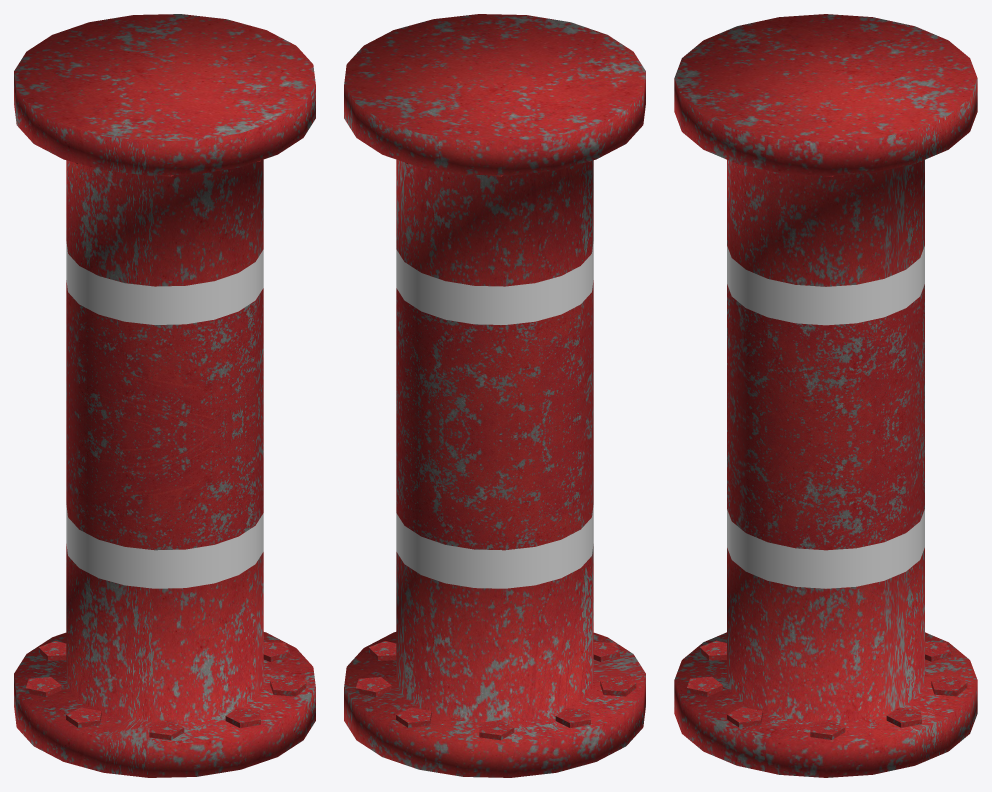
File: column.fbx
The picture shows the model from 3 angles, left to right: view 1: azimuth 30°, elevation 25°; view 2: azimuth 150°, elevation 25°; view 3: azimuth 270°, elevation 25°; orthographic projection.
Parts seen in each view (by area): view 1: Plan; view 2: Plan; view 3: Plan.
Boxes of the visible parts, box(x1,y1,x2,y2) form: Plan: box(14, 14, 315, 777); Plan: box(344, 14, 645, 777); Plan: box(674, 14, 977, 777).
Bounding box in the file's own units: 306 × 708 × 306.
